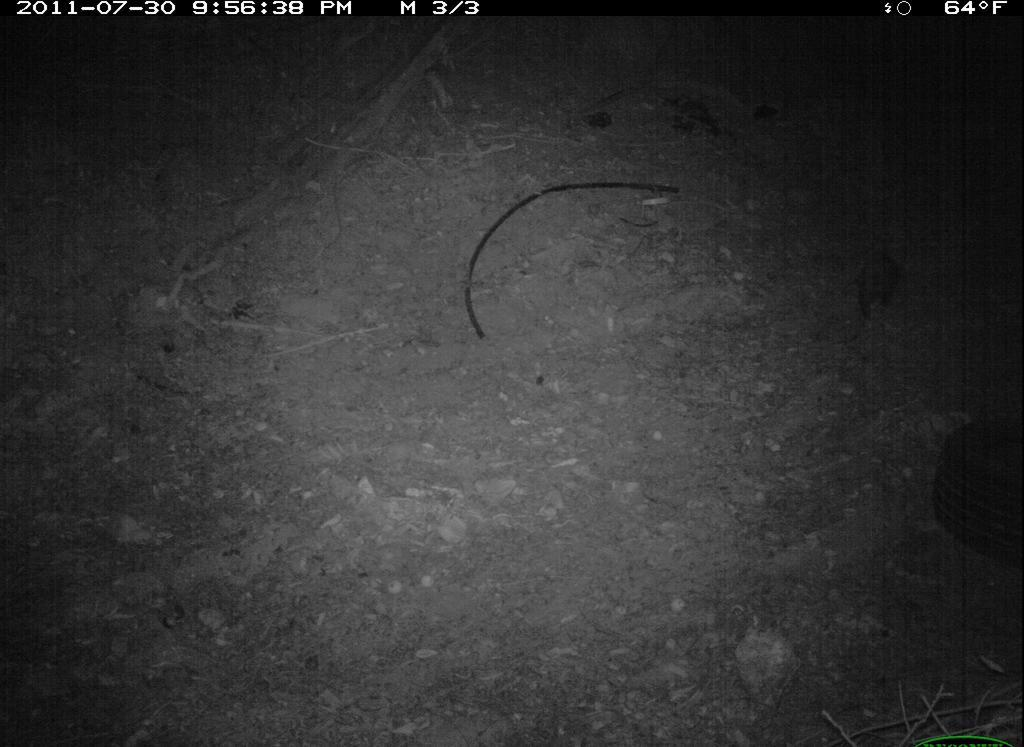opossum: (843, 241, 909, 332)
